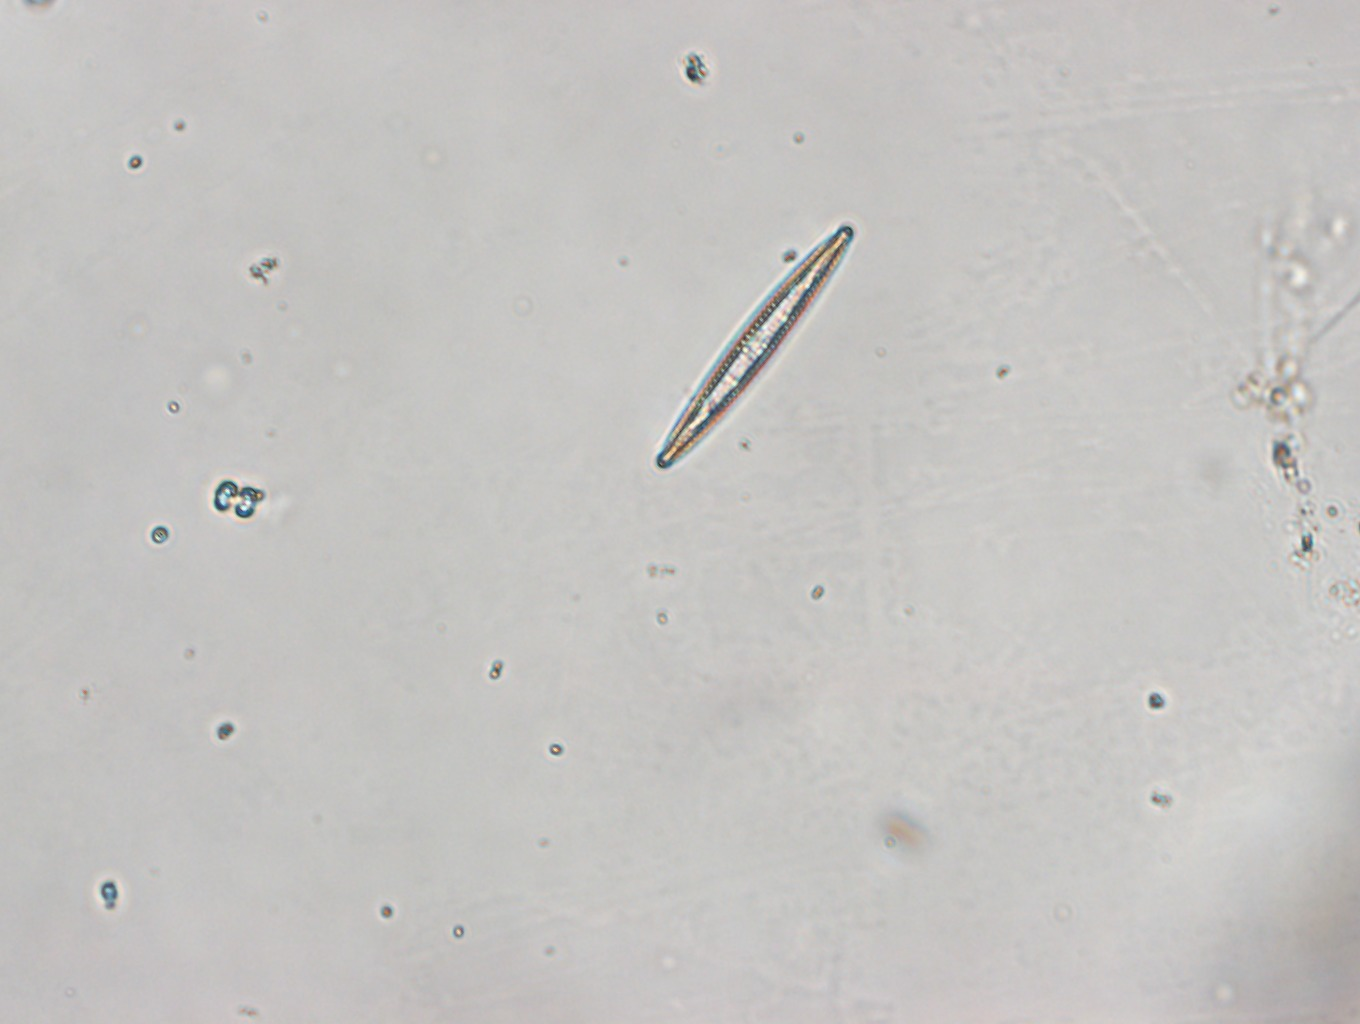navicula: (658, 223, 857, 470)
